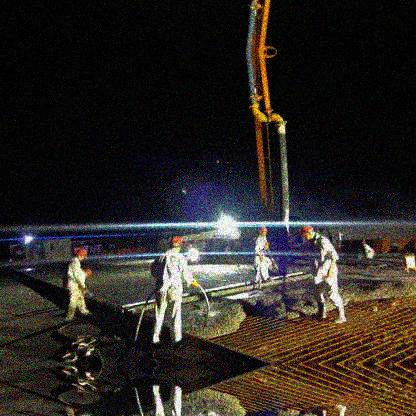helmet: (300, 225, 316, 241), (170, 234, 182, 252), (75, 247, 87, 262), (258, 225, 268, 238), (361, 240, 367, 247)
